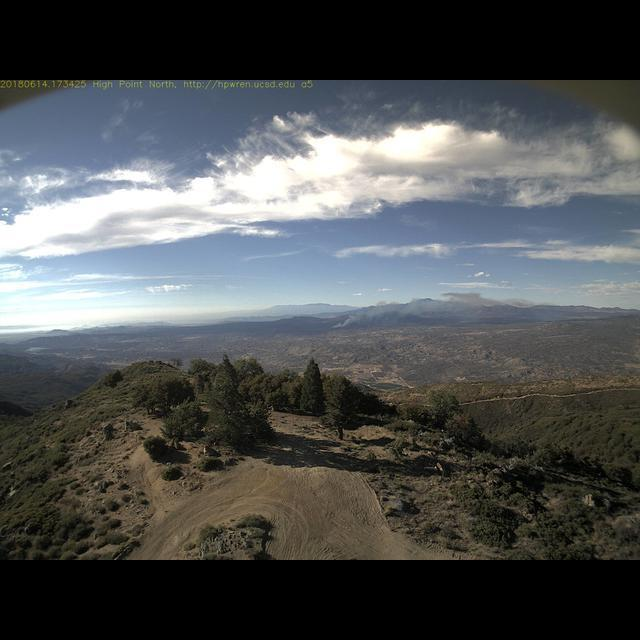Smoke: (326, 287, 494, 329)
